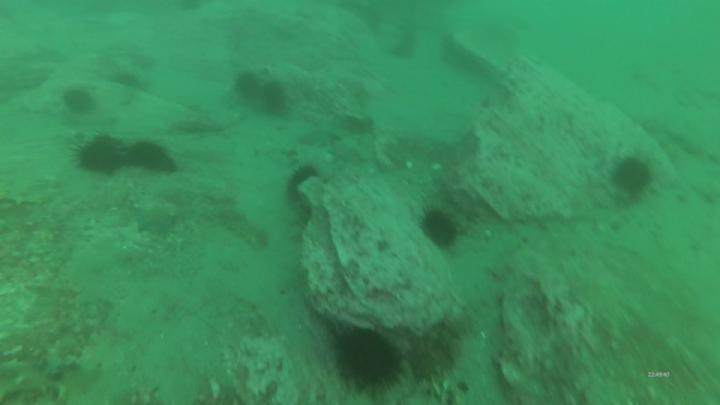echinus: (333, 324, 406, 402), (70, 130, 135, 178), (126, 137, 180, 179), (608, 154, 656, 198), (418, 206, 462, 253), (285, 161, 319, 208), (260, 79, 293, 119), (235, 69, 269, 107), (59, 85, 97, 116)
holothurian: (409, 313, 472, 384), (216, 208, 271, 256)
starfish: (134, 206, 180, 238)
